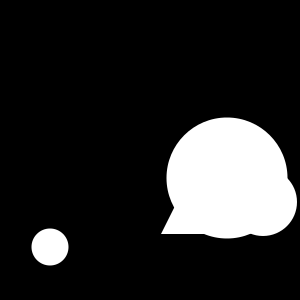rectangle: (167, 118, 288, 238), (229, 168, 297, 236), (31, 228, 68, 266)
triangle: (161, 190, 205, 234)
